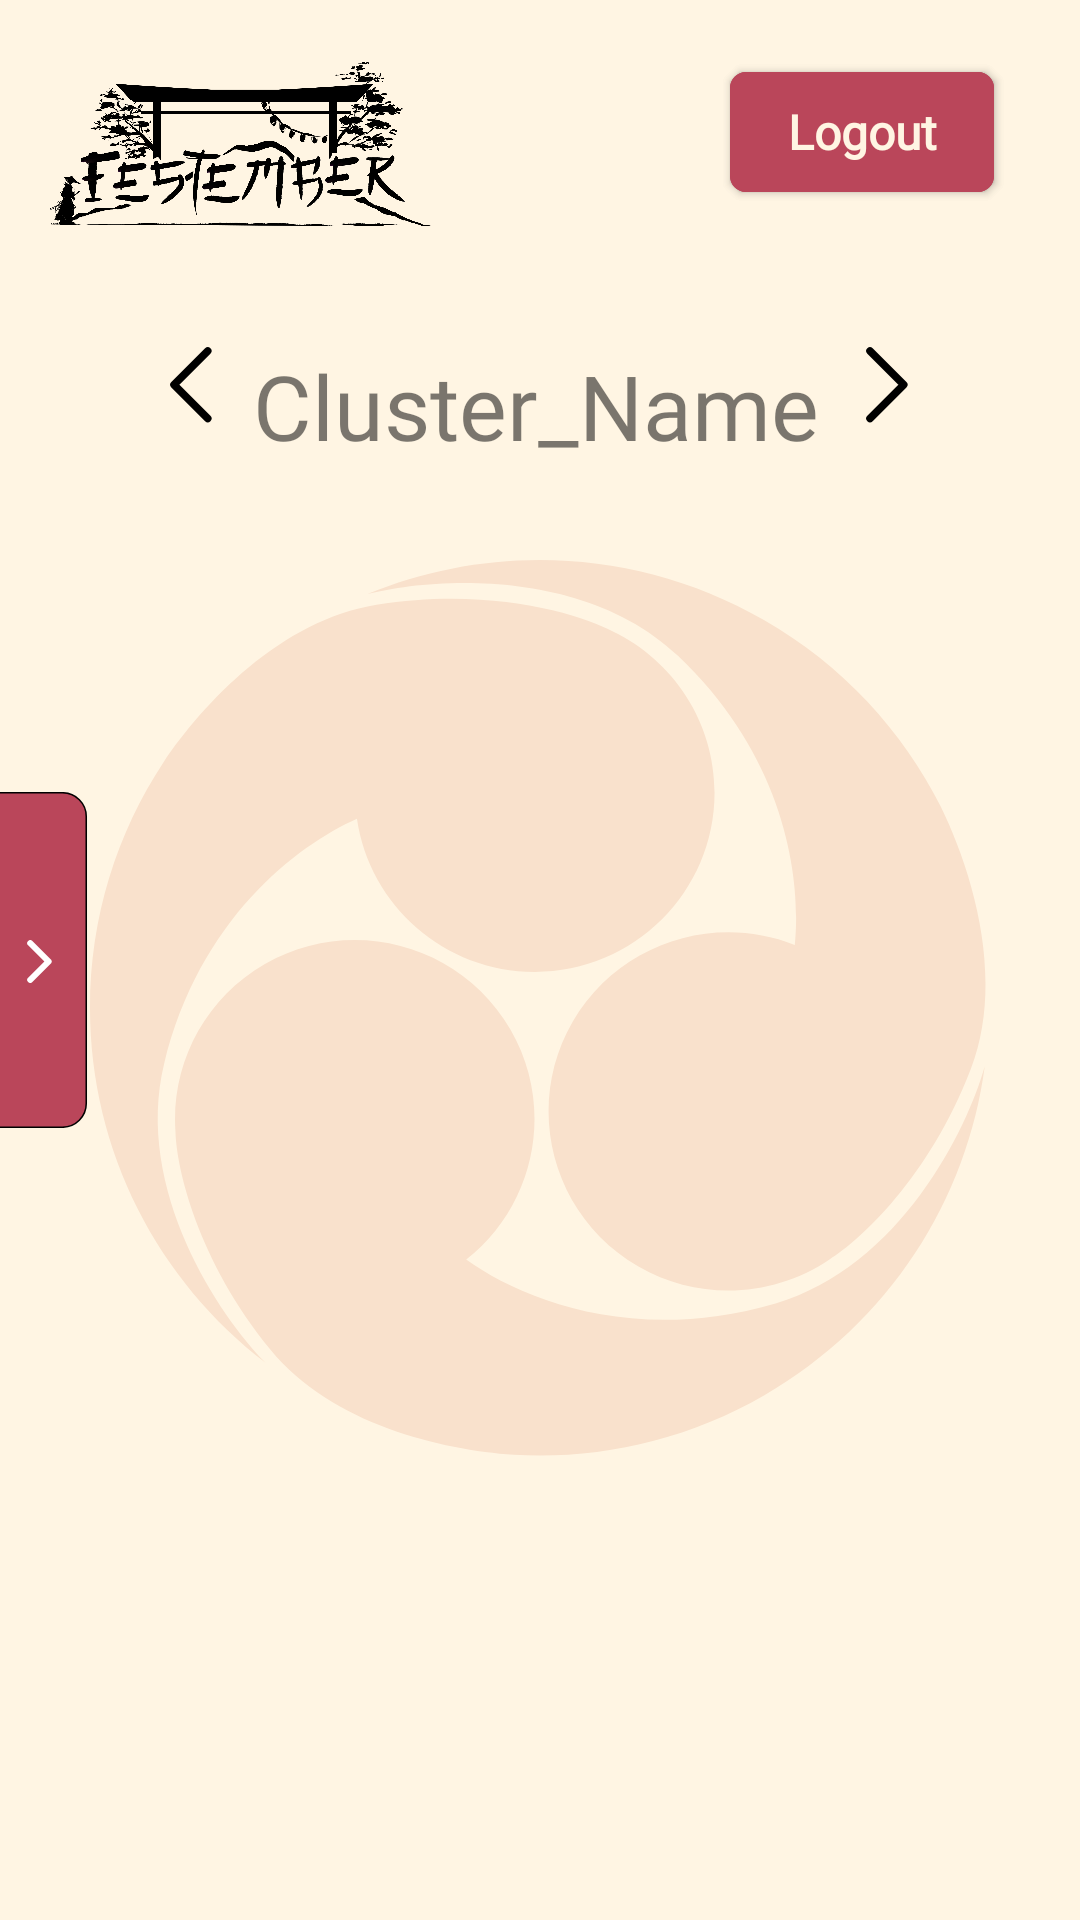

Where icons sit on this 1080px×1920px app screen, as (x1, y1, x2, y2):
left arrow: (170, 347, 212, 423)
right arrow: (866, 347, 908, 423)
